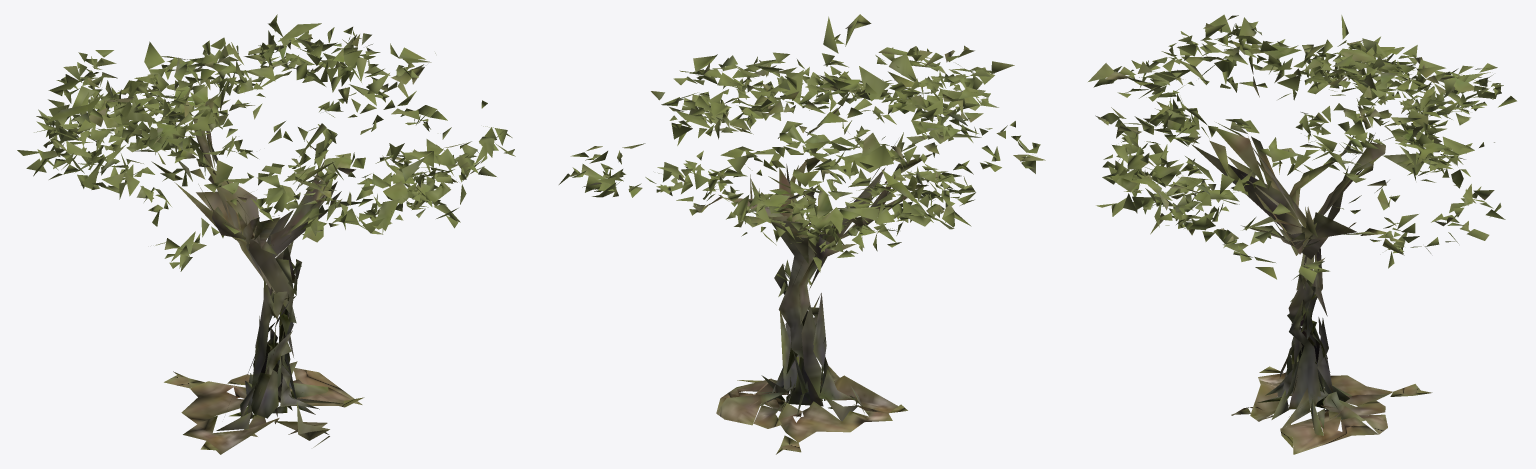
The model's file is acacia_espinhosa_adulta-lod.glb.
3 views of the same model, side by side, from view 1: azimuth 30°, elevation 25°; view 2: azimuth 150°, elevation 25°; view 3: azimuth 270°, elevation 25° (orthographic). The views are drawn at different scales.
Visible parts, largest first — view 1: geometry_0; view 2: geometry_0; view 3: geometry_0.
Boxes of the visible parts, bbox=[...] form: geometry_0: bbox=[17, 14, 515, 454]; geometry_0: bbox=[559, 14, 1045, 454]; geometry_0: bbox=[1088, 14, 1516, 454].
Bounding box in the file's own units: 0.97 × 0.8414 × 0.9123.
1 material, 1 textured.
